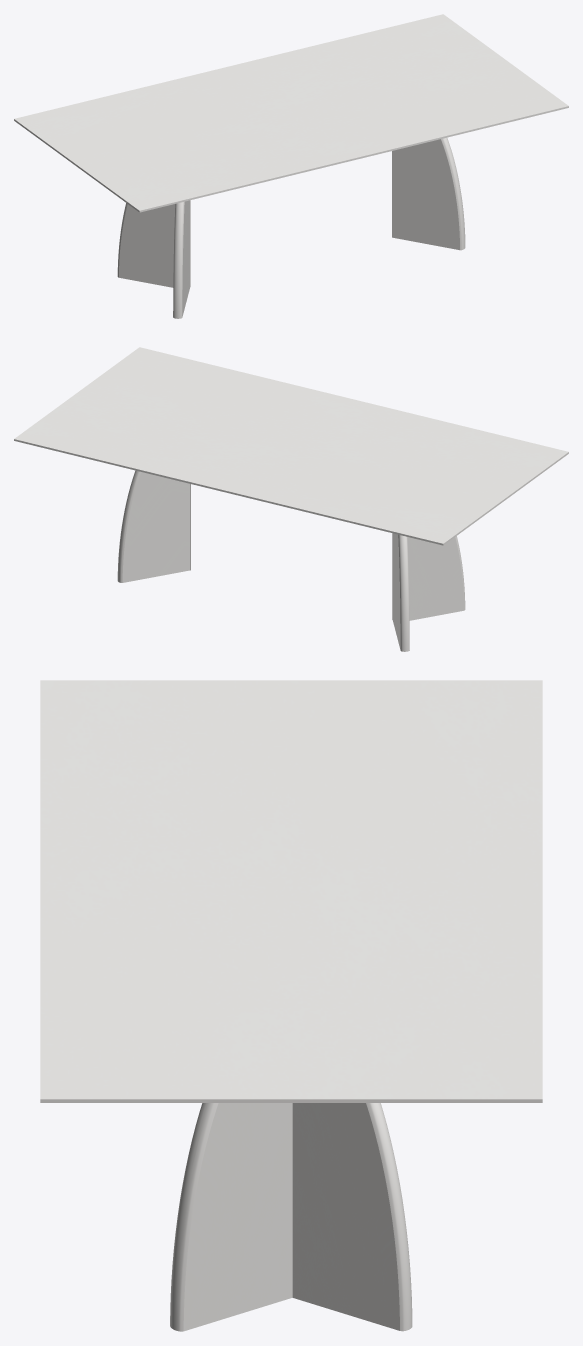
The model's file is purewhite_recta_facet_newtable2.glb.
3 renders of one model, top to bottom at view 1: azimuth 30°, elevation 25°; view 2: azimuth 150°, elevation 25°; view 3: azimuth 270°, elevation 25°, orthographic. The views are drawn at different scales.
Visible parts, largest first — view 1: facet_recta, newtable2_singleright2, newtable2_singleleft1, newtable2_singleright1; view 2: facet_recta, newtable2_singleleft2, newtable2_singleright1, newtable2_singleleft1; view 3: facet_recta, newtable2_singleright2, newtable2_singleleft2.
Boxes of the visible parts, <box> form: facet_recta: <box>14,14,568,212</box>; newtable2_singleright2: <box>392,137,465,250</box>; newtable2_singleleft1: <box>117,200,190,287</box>; newtable2_singleright1: <box>173,200,190,318</box>; facet_recta: <box>14,347,568,545</box>; newtable2_singleleft2: <box>117,470,190,582</box>; newtable2_singleright1: <box>392,533,465,620</box>; newtable2_singleleft1: <box>392,533,409,651</box>; facet_recta: <box>40,680,542,1102</box>; newtable2_singleright2: <box>170,1103,292,1331</box>; newtable2_singleleft2: <box>292,1103,412,1331</box>.
Size of the model in its own units: 7.5 by 2.5 by 3.8.
1 material, 1 textured.
